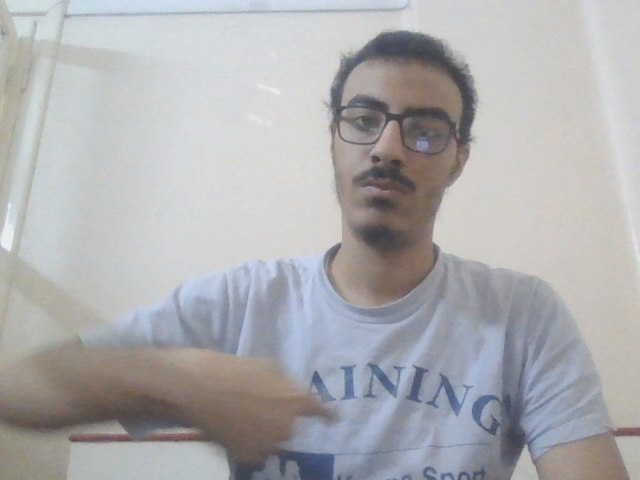Me: (171, 334, 347, 471)
